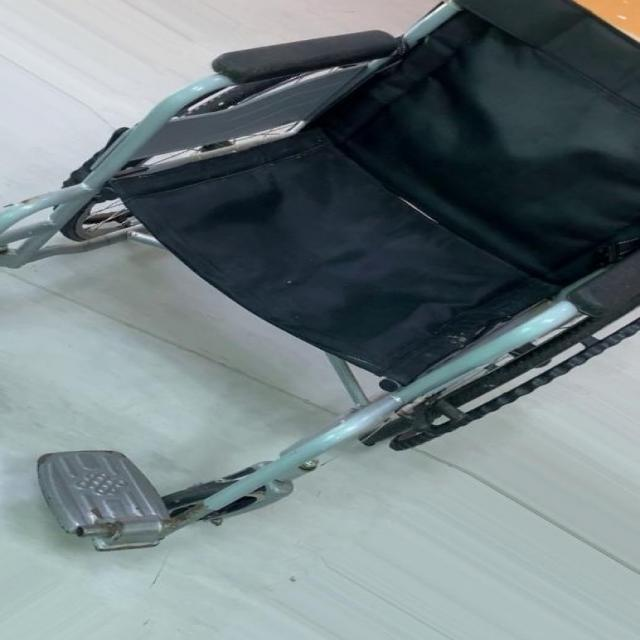wheelchair: (4, 0, 639, 567)
